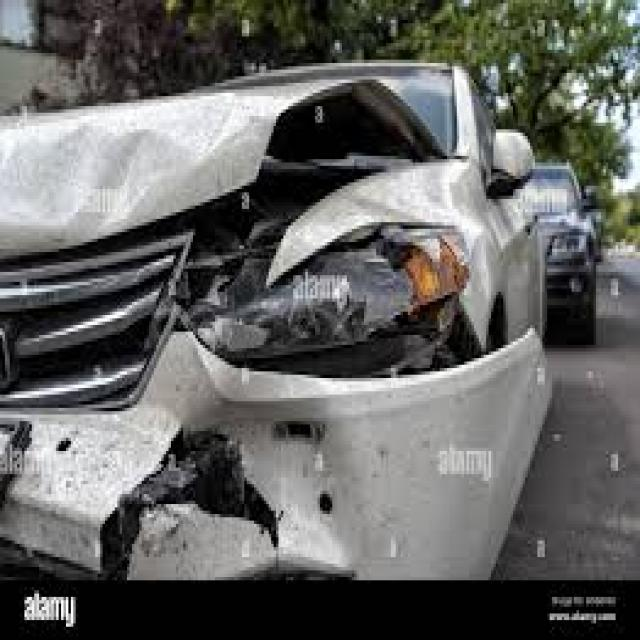severe: (45, 109, 447, 591)
